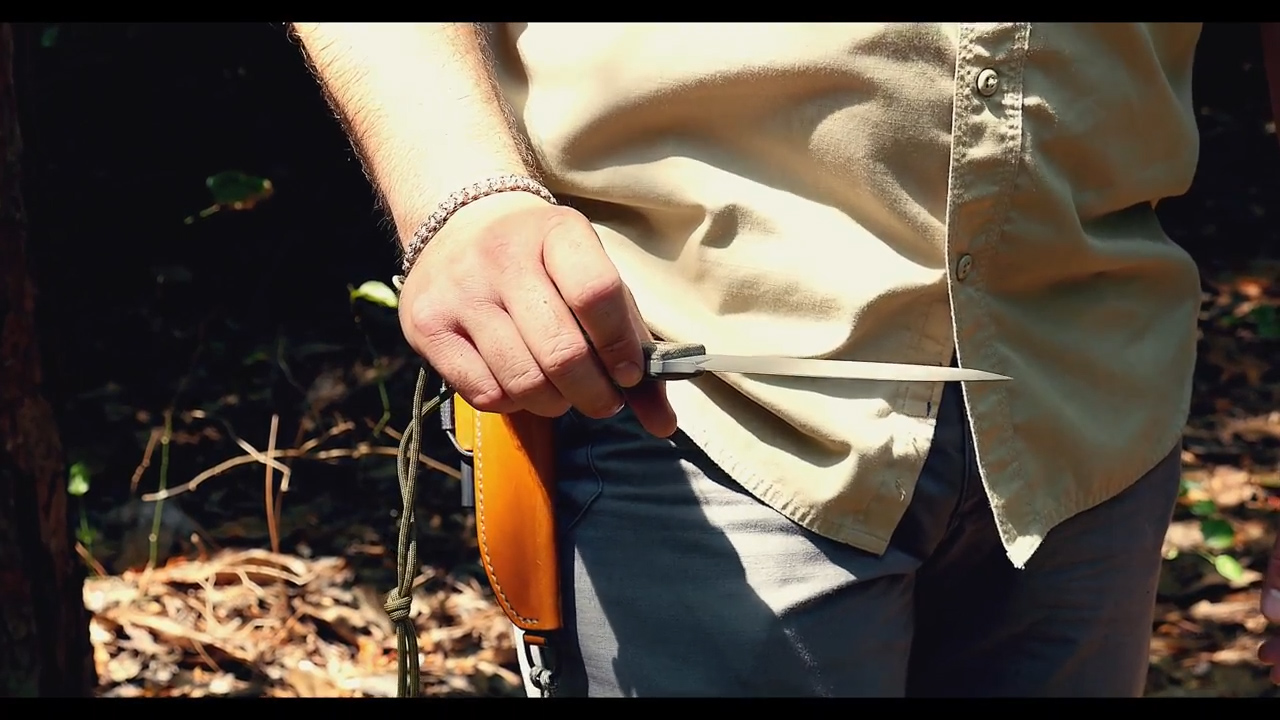knife: (447, 290, 1023, 443)
